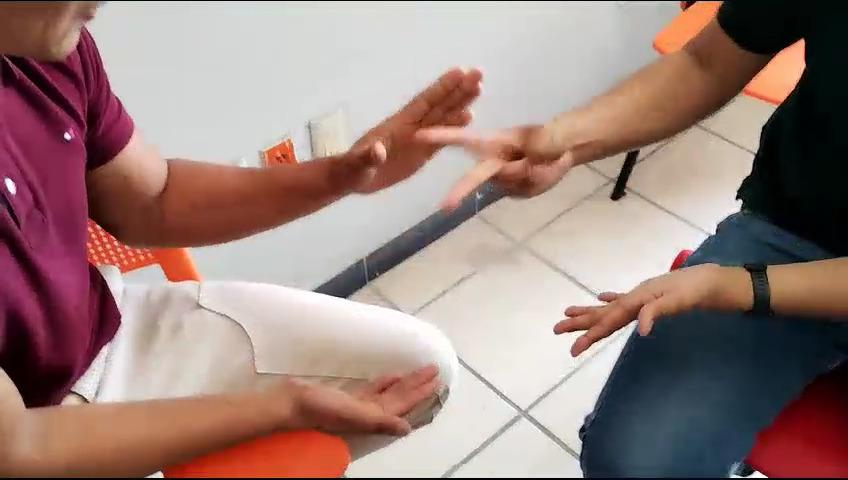Paper: (309, 53, 493, 210)
Scissor: (407, 98, 600, 220)
